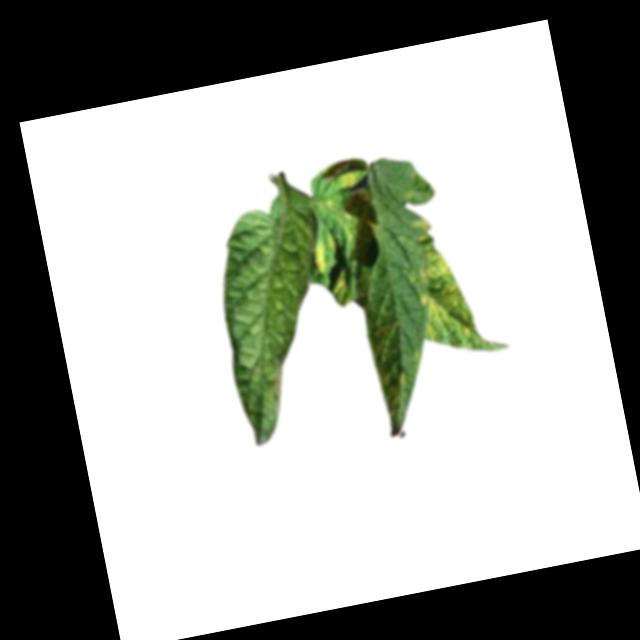Leaf_Mold: (401, 211, 479, 353), (307, 227, 339, 276), (329, 271, 354, 307)
